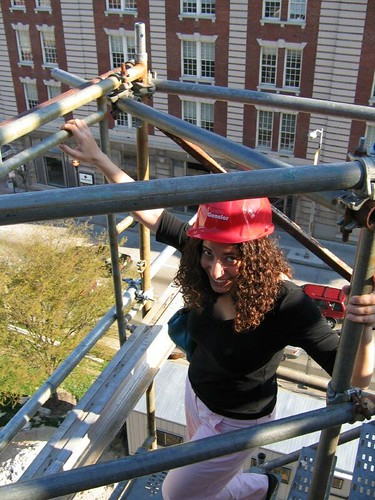person hardhat: (71, 122, 343, 500)
